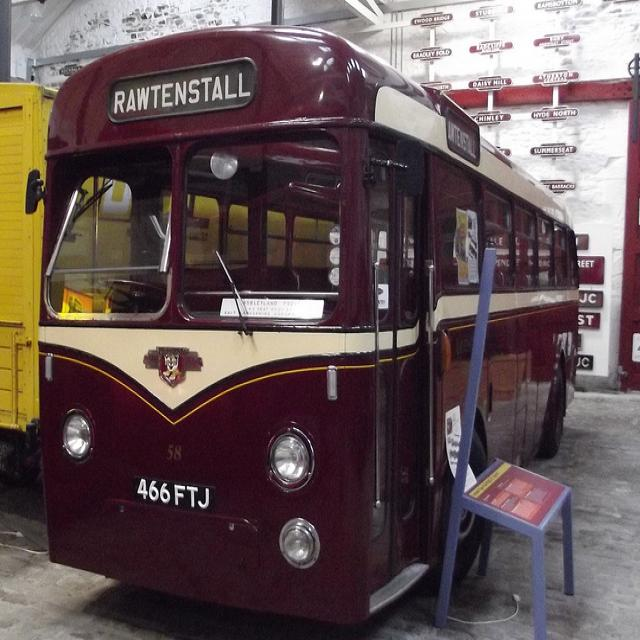Vehicle: (22, 32, 580, 622), (1, 75, 58, 506)
